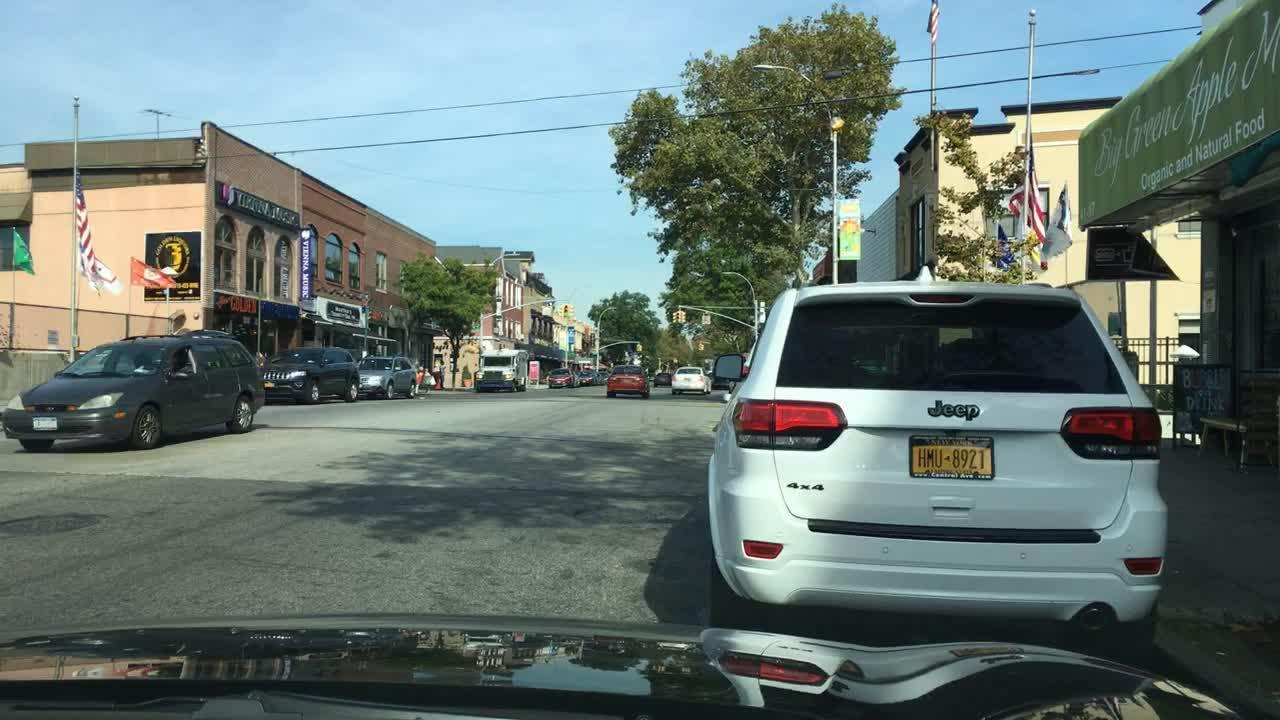jeep: (925, 390, 990, 429)
